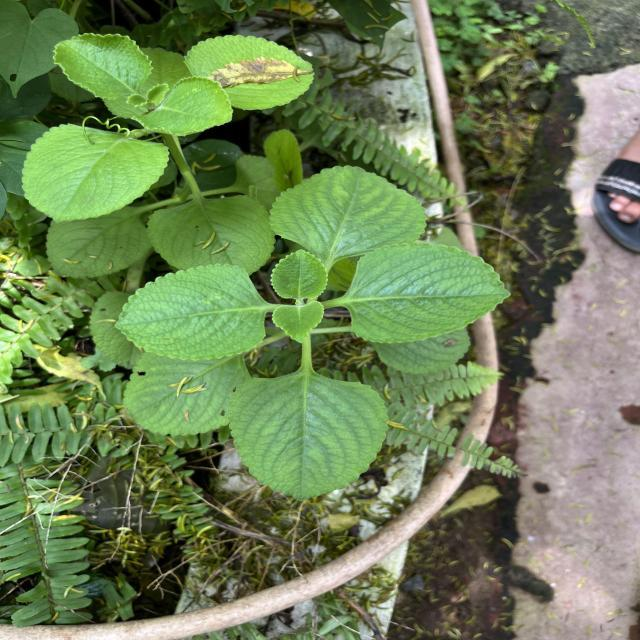Plectranthus barbatus: (225, 372, 389, 503), (348, 242, 512, 344), (114, 262, 268, 362), (21, 123, 171, 224), (268, 164, 429, 256), (122, 352, 254, 437), (146, 194, 277, 278), (182, 33, 316, 111), (52, 32, 154, 101), (45, 218, 153, 279), (130, 76, 233, 138), (270, 248, 328, 300), (271, 300, 325, 344)
